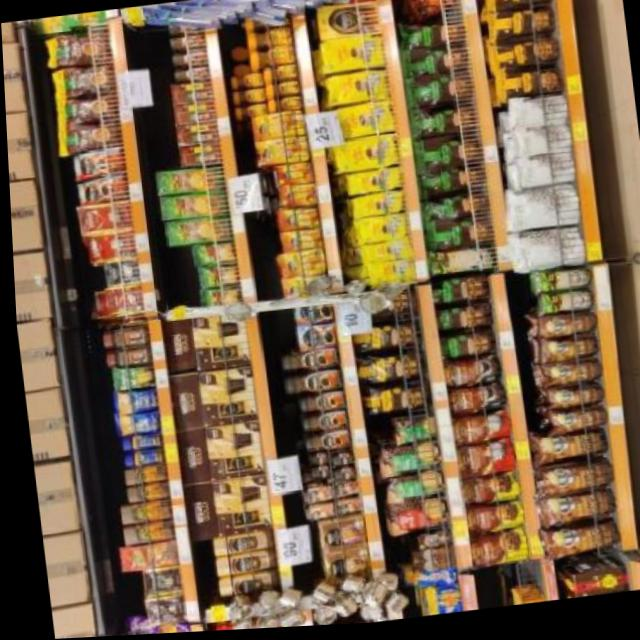Coffee: (279, 369, 339, 397), (74, 176, 128, 207), (252, 138, 307, 168), (275, 348, 335, 375), (250, 112, 303, 142), (211, 573, 273, 598), (208, 551, 269, 576), (72, 148, 123, 177), (275, 249, 323, 278), (207, 533, 266, 556), (292, 324, 336, 351), (296, 412, 346, 435), (294, 392, 341, 415), (249, 46, 295, 69), (299, 432, 347, 454), (247, 30, 293, 51), (276, 209, 316, 232), (290, 305, 331, 327), (281, 230, 320, 253), (173, 67, 209, 84), (171, 51, 206, 68), (170, 34, 205, 51), (229, 74, 262, 91), (234, 103, 267, 120), (231, 89, 264, 106), (266, 97, 299, 114), (264, 81, 297, 98), (262, 67, 296, 82), (302, 467, 326, 482), (326, 469, 350, 484), (325, 454, 348, 469), (301, 453, 323, 467)
